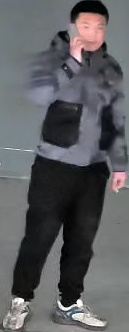phone: (44, 3, 124, 89)
